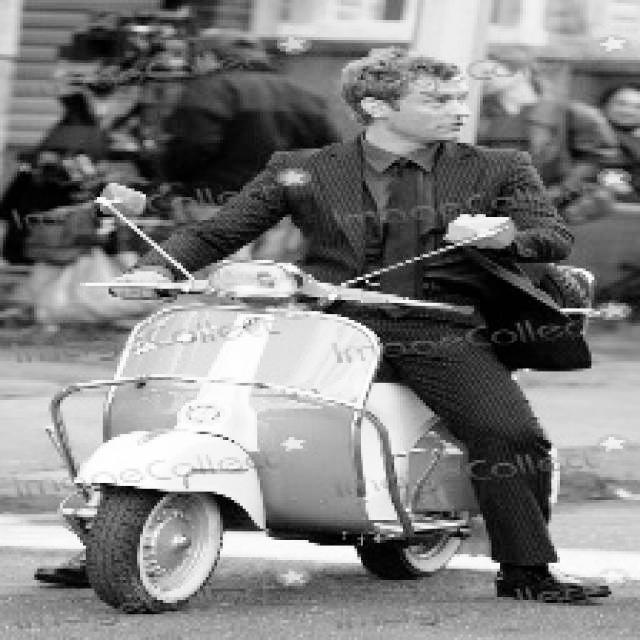Bike: (71, 297, 470, 613)
